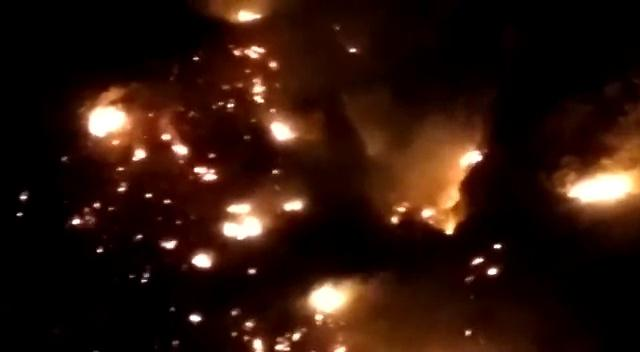fire: (574, 168, 635, 205), (84, 102, 131, 141), (306, 281, 353, 315), (219, 215, 266, 242), (270, 115, 294, 144), (455, 148, 482, 169), (283, 198, 305, 212)
